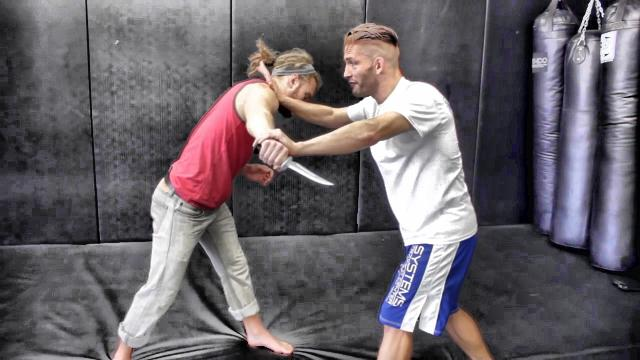knife: (252, 142, 342, 194)
